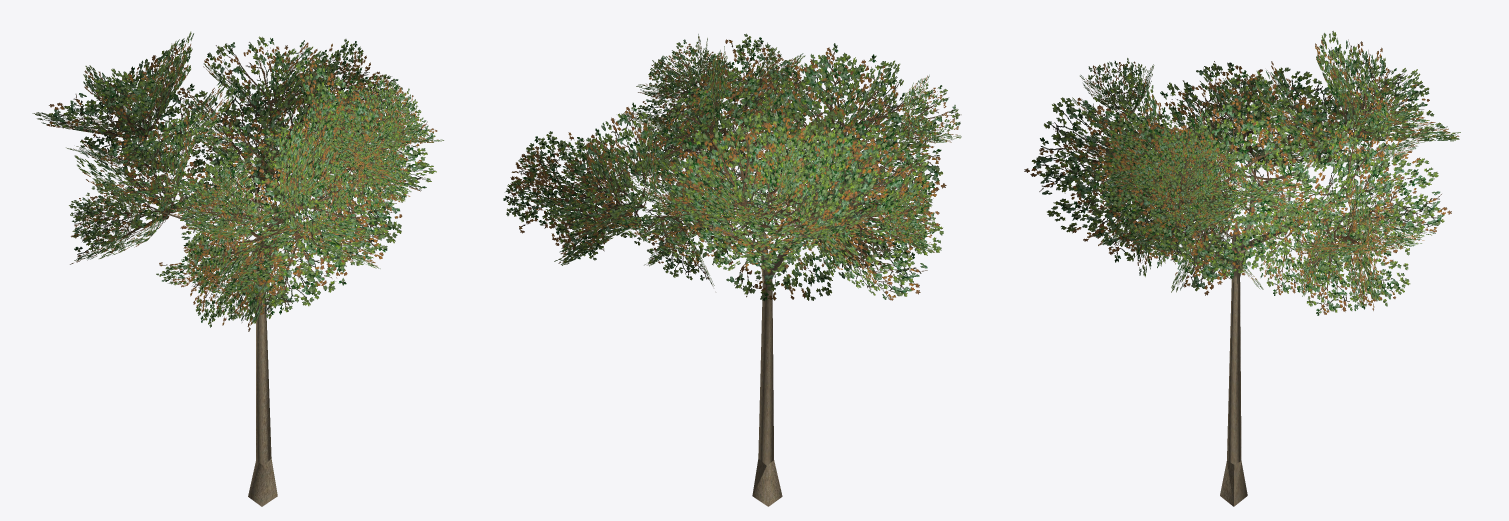
Rendered from decd_mapletreeleaves_a1_l1.fbx.
The picture shows the model from 3 angles, left to right: view 1: azimuth 30°, elevation 25°; view 2: azimuth 150°, elevation 25°; view 3: azimuth 270°, elevation 25°; orthographic projection.
Visible parts, largest first — view 1: mesh_node; view 2: mesh_node; view 3: mesh_node.
Boxes of the visible parts, x1,y1,x2,y2 form: mesh_node: [32, 31, 443, 506]; mesh_node: [503, 33, 961, 506]; mesh_node: [1024, 31, 1460, 506].
Size of the model in its own units: 17.13 by 18.7 by 18.41.
